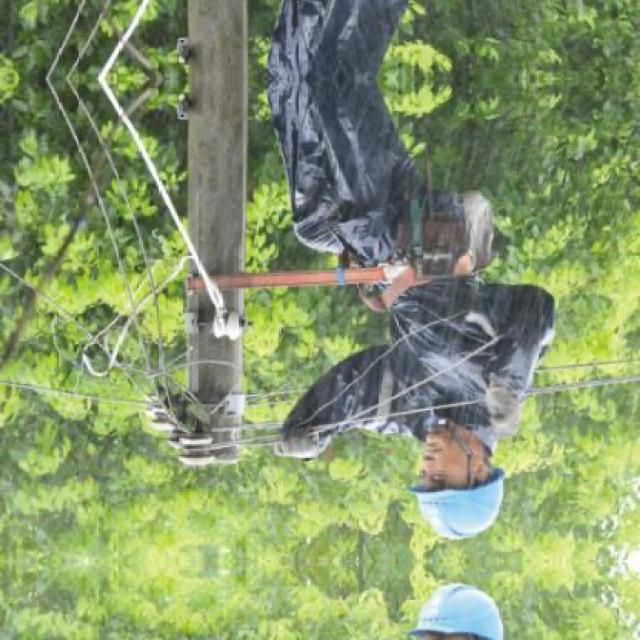con casco: (329, 349, 522, 539)
